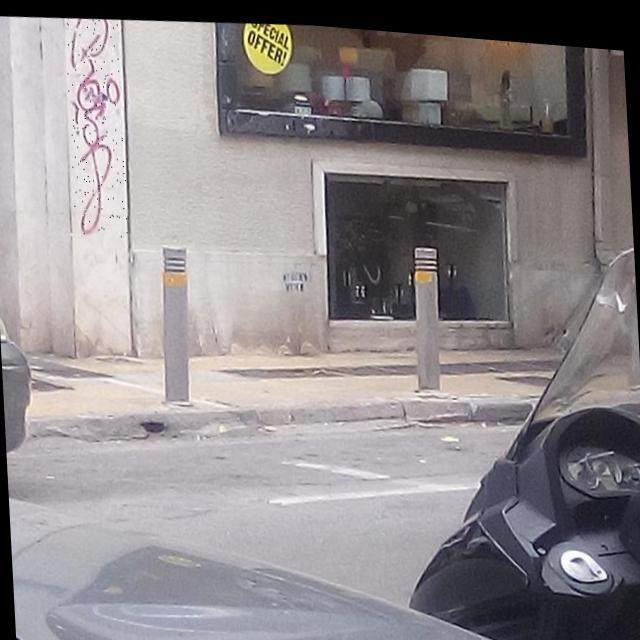-: (64, 14, 128, 238)
